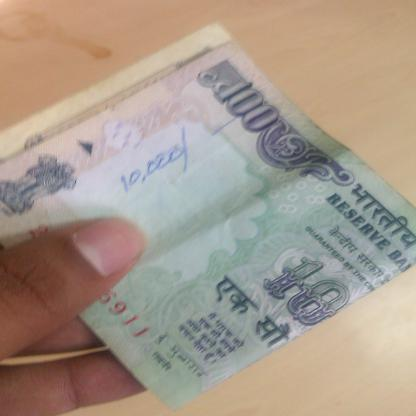Old100Front: (0, 18, 416, 411)
